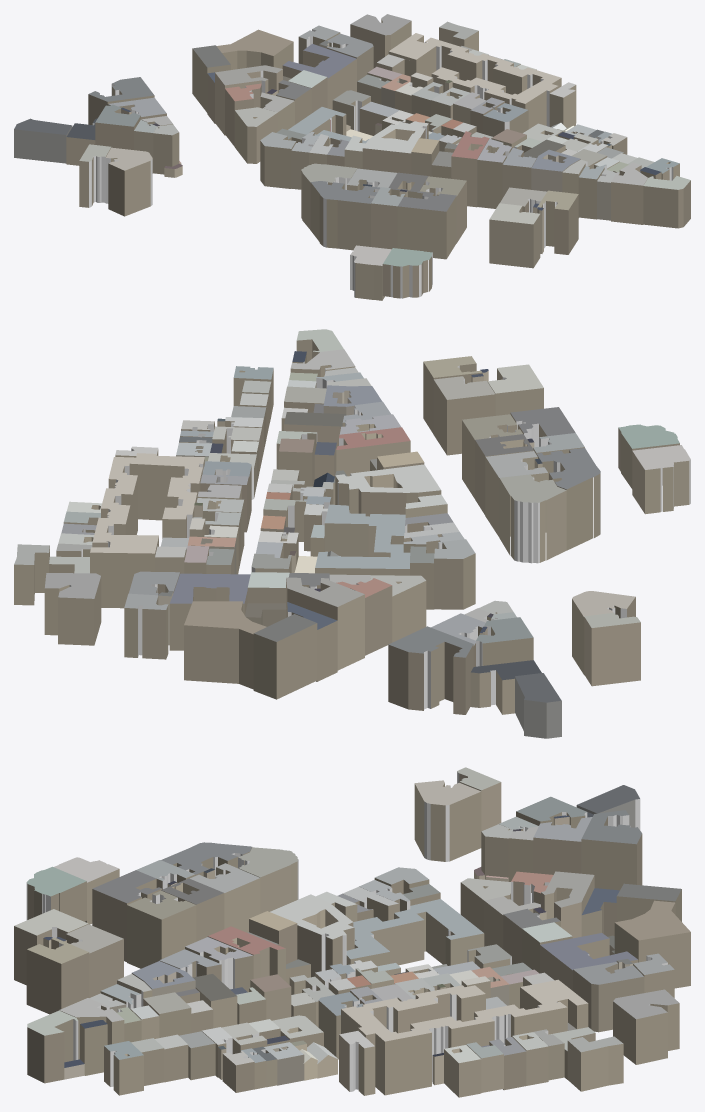
3 renders of one model, top to bottom at view 1: azimuth 30°, elevation 25°; view 2: azimuth 150°, elevation 25°; view 3: azimuth 270°, elevation 25°, orthographic. The views are drawn at different scales.
Visible parts, largest first — view 1: tuile; view 2: tuile; view 3: tuile.
Boxes of the visible parts, x1=… form: tuile: x1=14, y1=14, x2=690, y2=300; tuile: x1=14, y1=329, x2=690, y2=738; tuile: x1=14, y1=767, x2=690, y2=1097.
Size of the model in its own units: 268 by 31.79 by 275.
